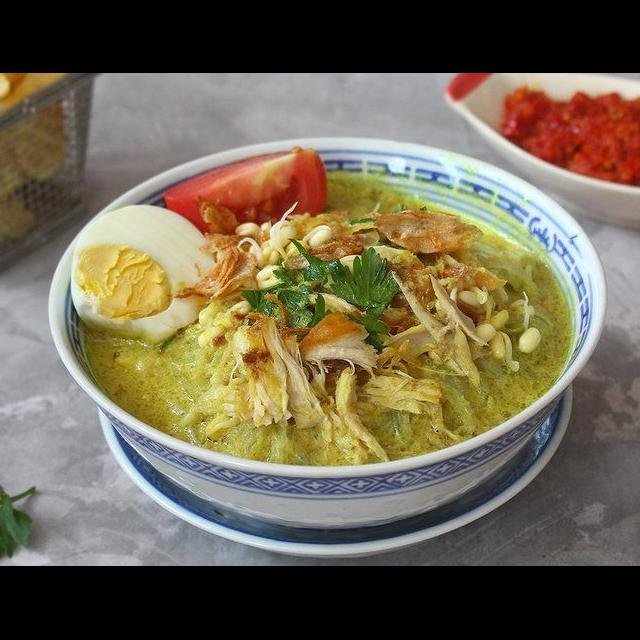Soto: (104, 141, 545, 448)
